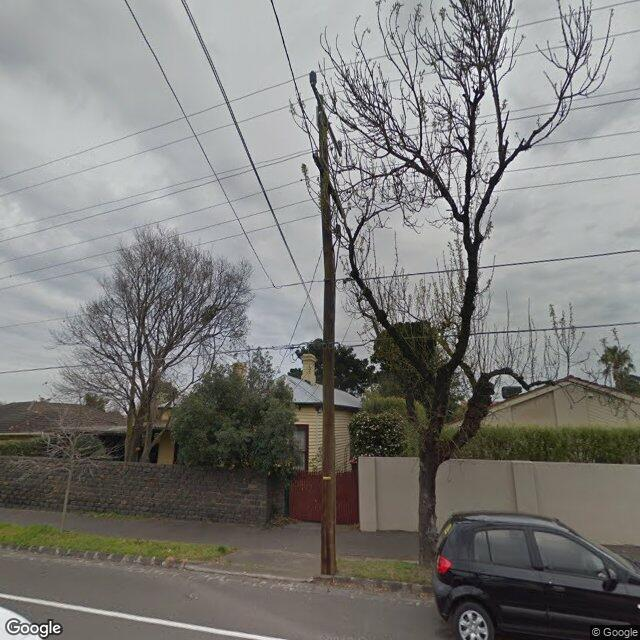HV-transmission: (310, 70, 342, 153)
crossarm: (310, 85, 343, 157), (313, 152, 347, 218)
timber-pole: (317, 105, 336, 575)
